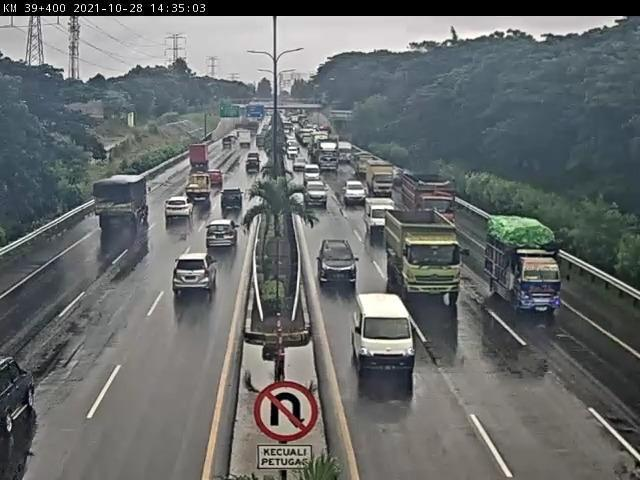car: (349, 289, 421, 382), (1, 349, 47, 439), (313, 234, 370, 293), (169, 245, 221, 301), (362, 198, 404, 238), (204, 218, 238, 253), (157, 195, 198, 224), (221, 191, 258, 216), (307, 182, 331, 212), (347, 178, 368, 206), (210, 172, 229, 187)
truck: (484, 218, 568, 326), (386, 213, 470, 295), (92, 175, 154, 227), (403, 179, 459, 228), (364, 161, 394, 197), (190, 143, 217, 176), (190, 176, 209, 203)
